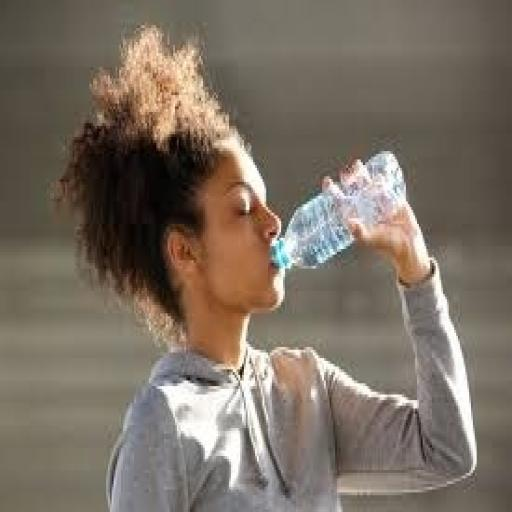drinking: (268, 148, 406, 272)
